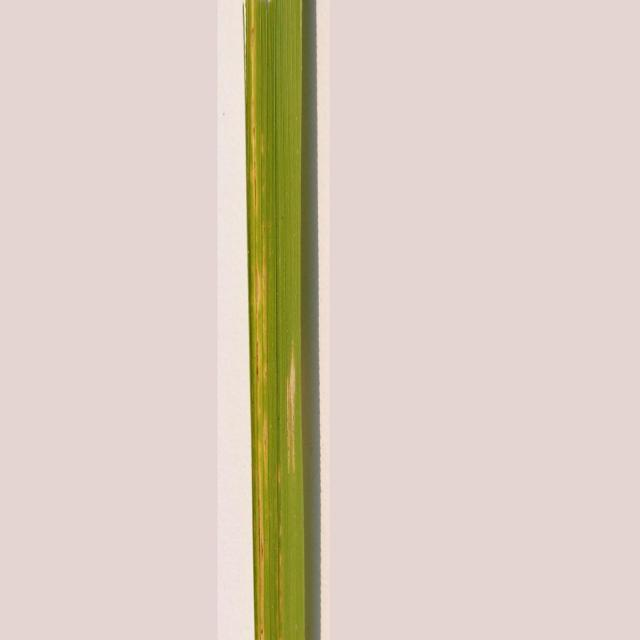leaf blight: (244, 2, 307, 636)
